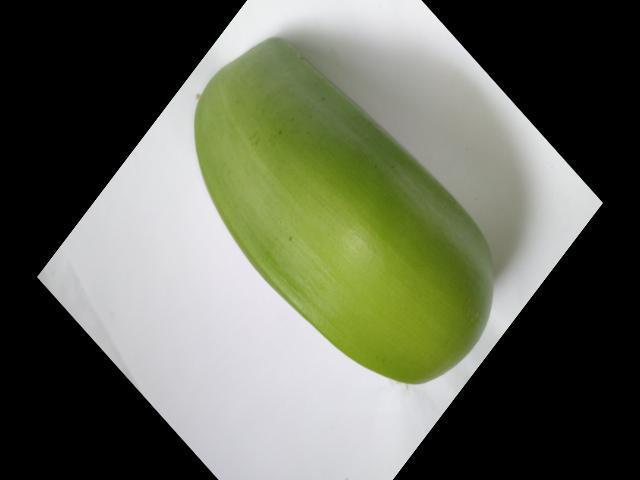freshunripe: (174, 23, 521, 402)
